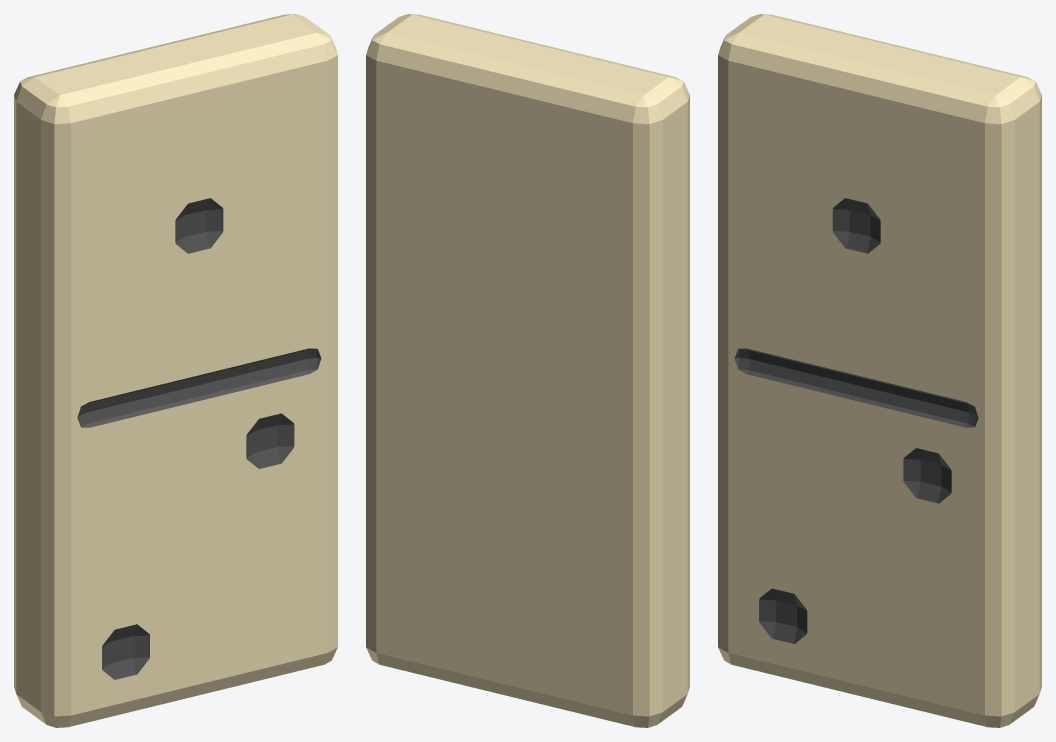
Rendered from dominoes 1x2.fbx.
3 views of the same model, side by side, from view 1: azimuth 30°, elevation 25°; view 2: azimuth 150°, elevation 25°; view 3: azimuth 330°, elevation 25° (orthographic).
Visible parts, largest first — view 1: Boole_3; view 2: Boole_3; view 3: Boole_3.
Boxes of the visible parts, left/top/right/bottom form: Boole_3: left=14, top=14, right=337, bottom=727; Boole_3: left=366, top=14, right=689, bottom=727; Boole_3: left=718, top=14, right=1041, bottom=727.
Bounding box in the file's own units: 200 × 410 × 55.02.
